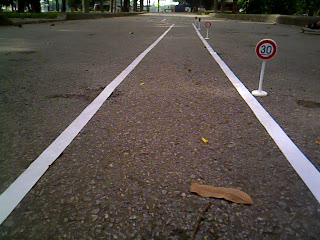limit 30: (253, 38, 279, 63)
